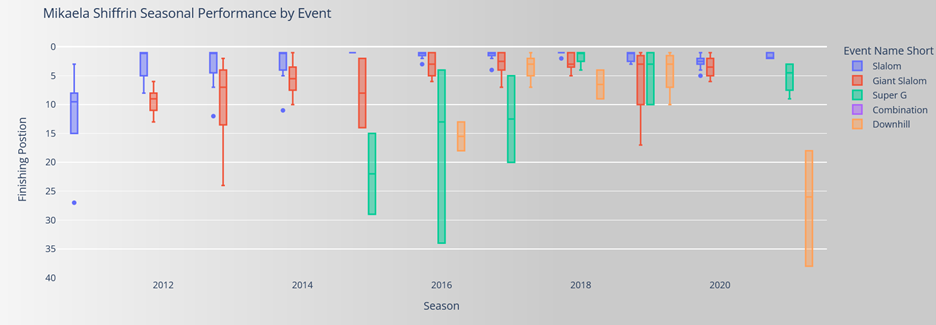

What the dashboard file says about the page in this screenshot:
{"tool":"tableau","page":{"name":"Dashboard 1","canvas":[1000,1000],"units":"permille","ordinal":0},"visuals":[{"type":"worksheet","title":"Sheet 1","mark":"Automatic","box":[2.1,4.2,888.5,991.5]},{"type":"filter","title":"Sheet 1","param":"[federated.146amrn0jlxjl911misc91clc58j].[none:Medal:ok]","box":[890.6,4.2,107.3,47.2]},{"type":"filter","title":"Sheet 1","param":"[federated.146amrn0jlxjl911misc91clc58j].[none:USOC Master Competition Set Name:","box":[890.6,51.4,107.3,150.1]},{"type":"legend","title":"Sheet 1","param":"[federated.146amrn0jlxjl911misc91clc58j].[cnt:Medal:qk]","box":[890.6,201.5,107.3,43]},{"type":"filter","title":"Sheet 1","param":"[federated.146amrn0jlxjl911misc91clc58j].[none:Event Gender:nk]","box":[890.6,244.4,107.3,64.2]},{"type":"filter","title":"Sheet 1","param":"[federated.146amrn0jlxjl911misc91clc58j].[none:Event Name Short:nk]","box":[890.6,308.6,107.3,121.4]}]}

Visuals, with their boxes on the dashboard's canvas, which has no fixed pixel size, in thousandths of its width and height (x1, y1, x2, y2). These are canvas units, not pixel positions in the 936x325 screenshot, which may show the page scaled, cropped or inside an application window:
"Sheet 1" worksheet: 2, 4, 891, 996
"Sheet 1" filter: 891, 4, 998, 51
"Sheet 1" filter: 891, 51, 998, 202
"Sheet 1" legend: 891, 202, 998, 244
"Sheet 1" filter: 891, 244, 998, 309
"Sheet 1" filter: 891, 309, 998, 430
